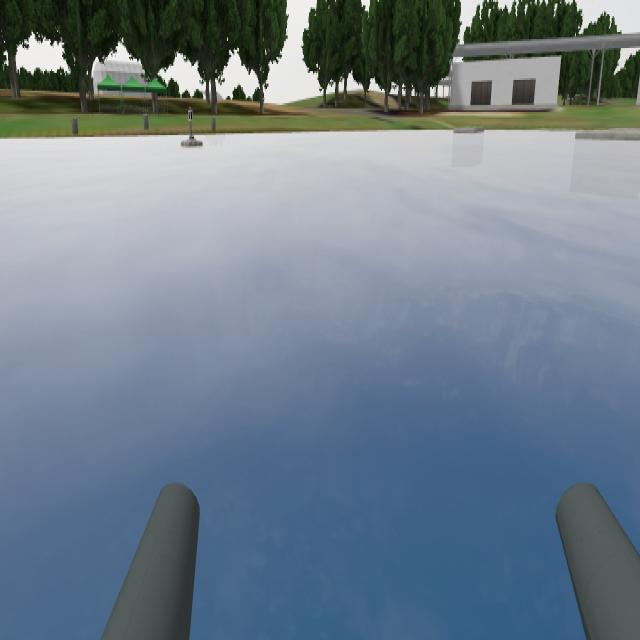post: (188, 106, 194, 121)
